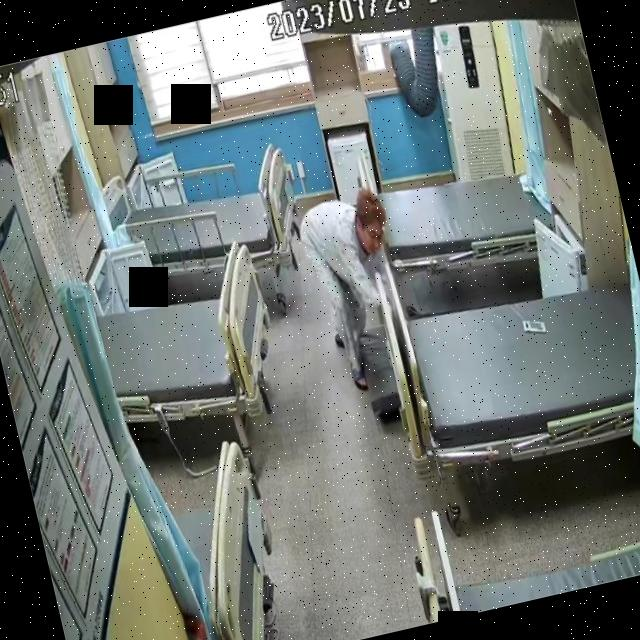bed: (396, 257, 640, 479), (86, 236, 293, 447), (98, 138, 306, 298), (356, 130, 560, 290)
danger: (292, 185, 423, 398)
patient: (292, 184, 424, 398)
